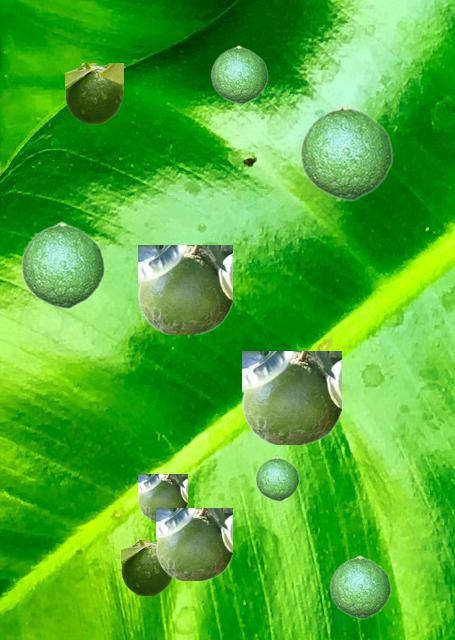dalandan: (242, 351, 340, 443), (299, 104, 392, 200), (138, 245, 231, 333), (20, 221, 104, 308), (156, 508, 231, 579), (329, 555, 390, 618), (65, 63, 122, 123), (210, 45, 267, 103), (121, 540, 172, 595), (138, 474, 186, 519), (255, 456, 298, 500)
